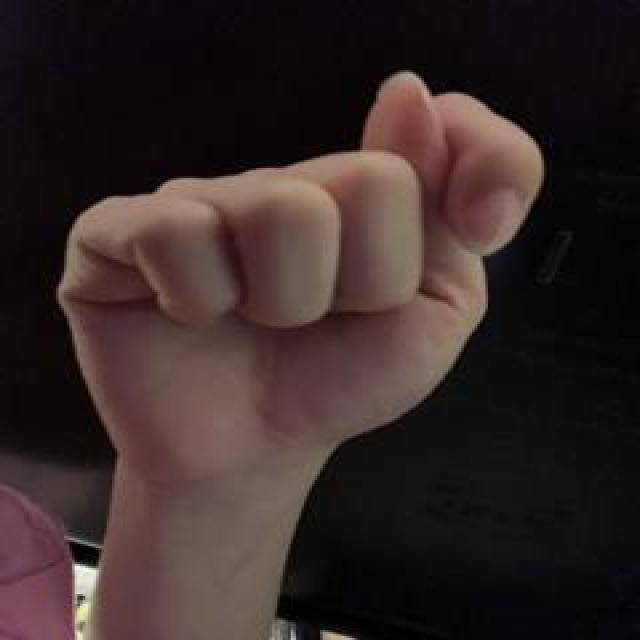T: (52, 63, 553, 473)
